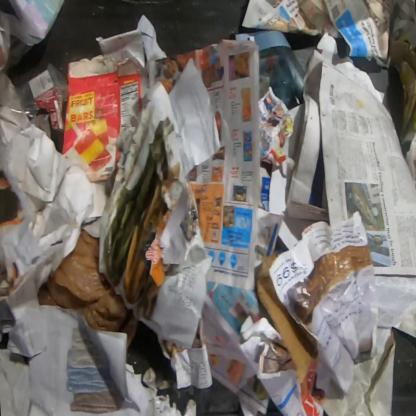cardboard: (60, 53, 142, 184), (256, 252, 317, 387), (387, 27, 415, 147), (152, 393, 198, 415)
soft_plastic: (38, 229, 139, 352), (0, 59, 71, 120), (0, 0, 69, 48), (0, 30, 11, 74)
